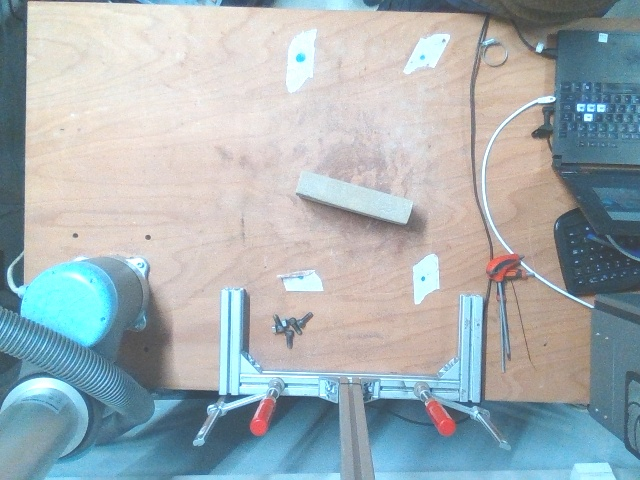brick-side: (296, 172, 411, 221)
